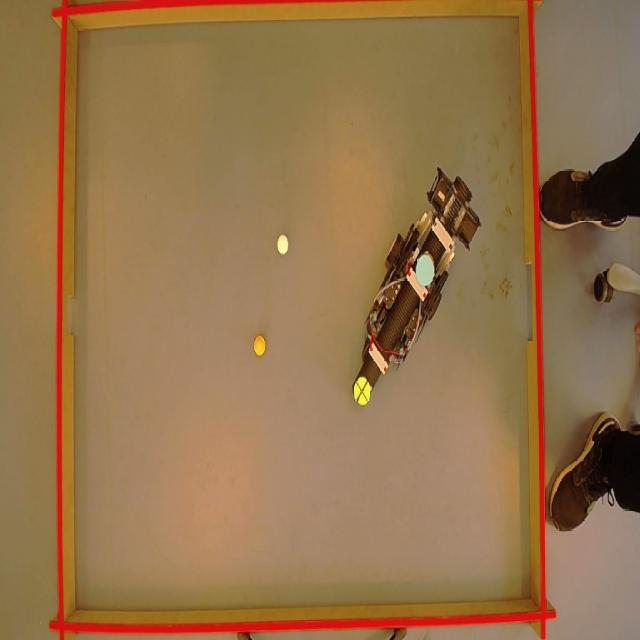orange: (254, 336, 266, 354)
robot: (352, 162, 483, 408)
robot-front: (353, 376, 371, 407)
robot-rear: (415, 253, 435, 288)
white: (274, 234, 288, 254)
